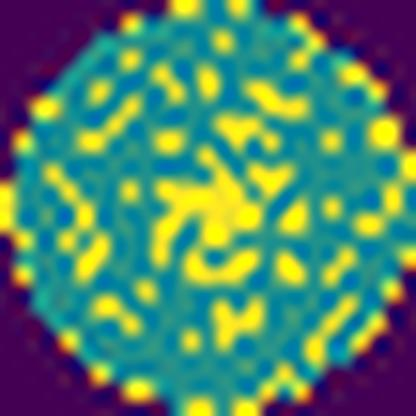Center: (143, 143, 268, 286)
